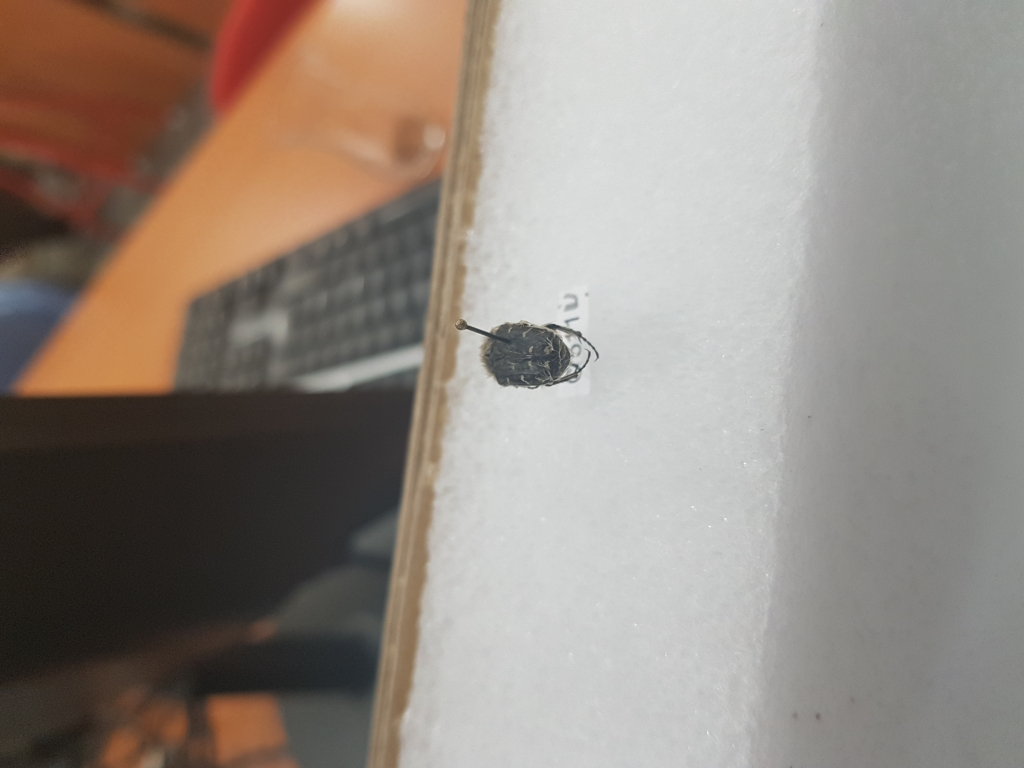Tropinota_senicula: (473, 315, 608, 397)
